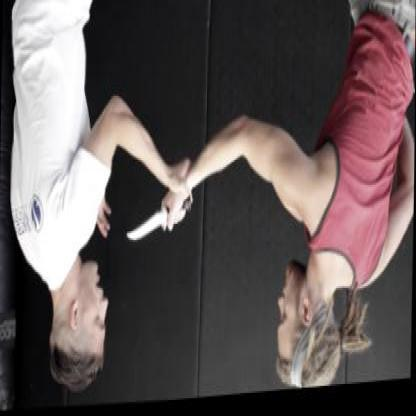knife: (122, 194, 194, 252)
